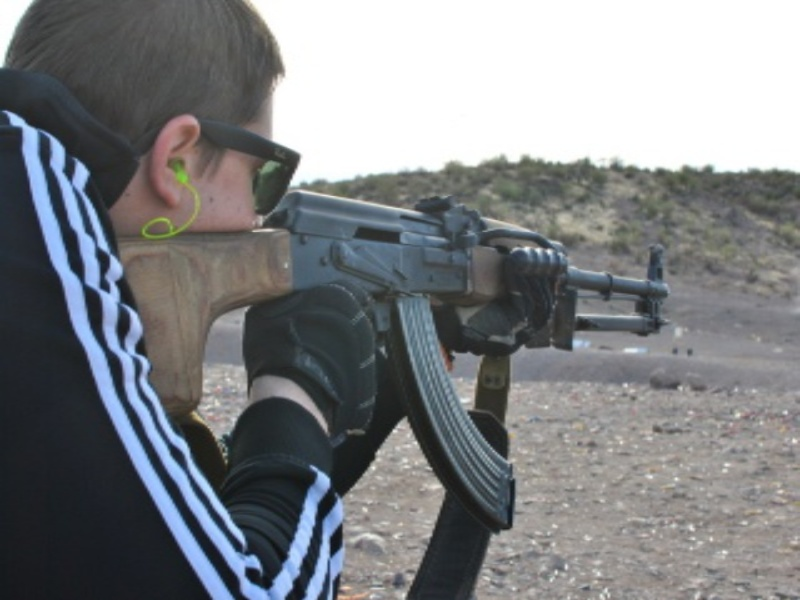person: (1, 1, 558, 600)
weapon: (118, 189, 672, 532)
